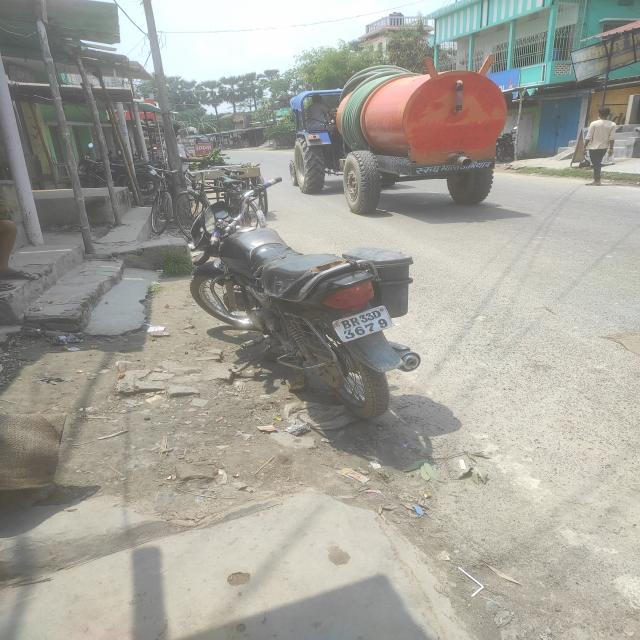Bike: (156, 196, 423, 438)
Tractot: (285, 63, 540, 214)
